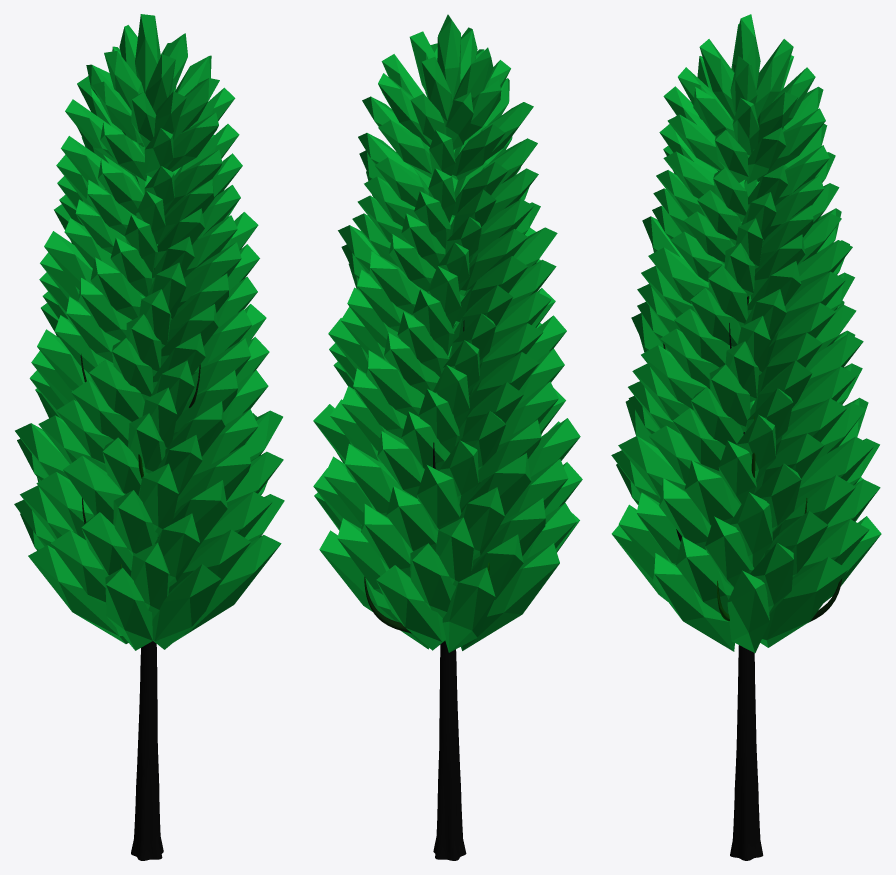
Rendered from TreeNineLeaves.fbx.
3 views of the same model, side by side, from view 1: azimuth 30°, elevation 25°; view 2: azimuth 150°, elevation 25°; view 3: azimuth 270°, elevation 25° (orthographic).
Parts seen in each view (by area): view 1: pPlatonic7, pPlatonic11, pPlatonic8, pPlatonic10, pPlatonic15, pPlatonic9, pPlatonic19, pPlatonic26, pPlatonic13, pPlatonic14, pPlatonic12, pPlatonic23 (+10 smaller); view 2: pPlatonic7, pPlatonic11, pPlatonic9, pPlatonic8, pPlatonic10, pPlatonic15, pPlatonic19, pPlatonic12, pPlatonic26, pPlatonic14, pPlatonic13, pPlatonic23 (+10 smaller); view 3: pPlatonic7, pPlatonic11, pPlatonic10, pPlatonic8, pPlatonic9, pPlatonic15, pPlatonic19, pPlatonic26, pPlatonic13, pPlatonic12, pPlatonic23, pPlatonic14 (+10 smaller).
Boxes of the visible parts, x1,y1,x2,y2 form: pPlatonic7: [20, 513, 281, 650]; pPlatonic11: [15, 395, 282, 536]; pPlatonic8: [14, 494, 284, 620]; pPlatonic10: [17, 413, 283, 555]; pPlatonic15: [37, 303, 266, 421]; pPlatonic9: [20, 477, 272, 586]; pPlatonic19: [44, 204, 258, 319]; pPlatonic26: [65, 76, 235, 181]; pPlatonic13: [29, 370, 268, 473]; pPlatonic14: [31, 334, 269, 448]; pPlatonic12: [35, 388, 258, 496]; pPlatonic23: [61, 124, 239, 216]; pPlatonic7: [319, 512, 579, 652]; pPlatonic11: [313, 404, 580, 531]; pPlatonic9: [313, 462, 582, 586]; pPlatonic8: [314, 492, 576, 618]; pPlatonic10: [324, 421, 568, 559]; pPlatonic15: [328, 315, 566, 429]; pPlatonic19: [338, 200, 557, 327]; pPlatonic12: [330, 388, 565, 508]; pPlatonic26: [362, 78, 533, 180]; pPlatonic14: [329, 323, 564, 453]; pPlatonic13: [333, 361, 558, 470]; pPlatonic23: [358, 133, 537, 222]; pPlatonic7: [611, 516, 881, 652]; pPlatonic11: [618, 397, 873, 532]; pPlatonic10: [611, 438, 879, 567]; pPlatonic8: [618, 477, 869, 614]; pPlatonic9: [616, 464, 880, 587]; pPlatonic15: [631, 300, 863, 432]; pPlatonic19: [642, 208, 852, 327]; pPlatonic26: [663, 86, 825, 183]; pPlatonic13: [628, 363, 862, 481]; pPlatonic12: [628, 396, 865, 505]; pPlatonic23: [659, 124, 829, 221]; pPlatonic14: [632, 330, 856, 445].
Size of the model in its own units: 53.1 by 181 by 53.14.
